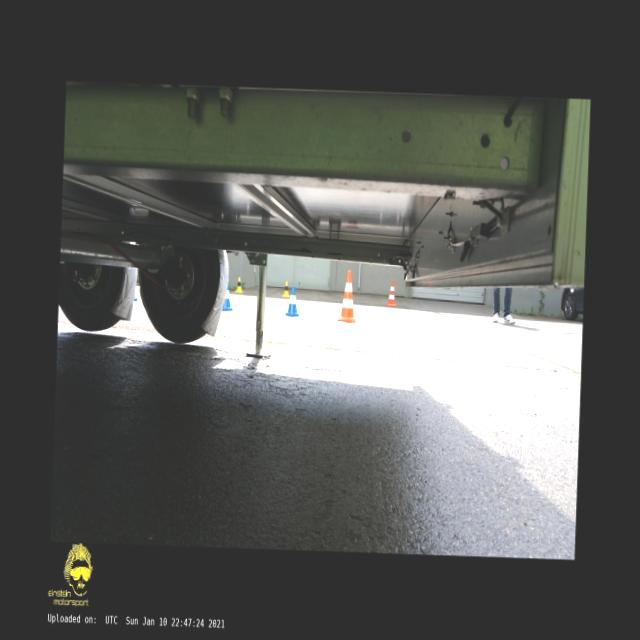blue_cone: (284, 285, 300, 316), (222, 282, 233, 310)
large_orange_cone: (337, 269, 357, 322), (386, 280, 396, 306)
yellow_cone: (282, 280, 290, 298), (235, 276, 242, 292)
